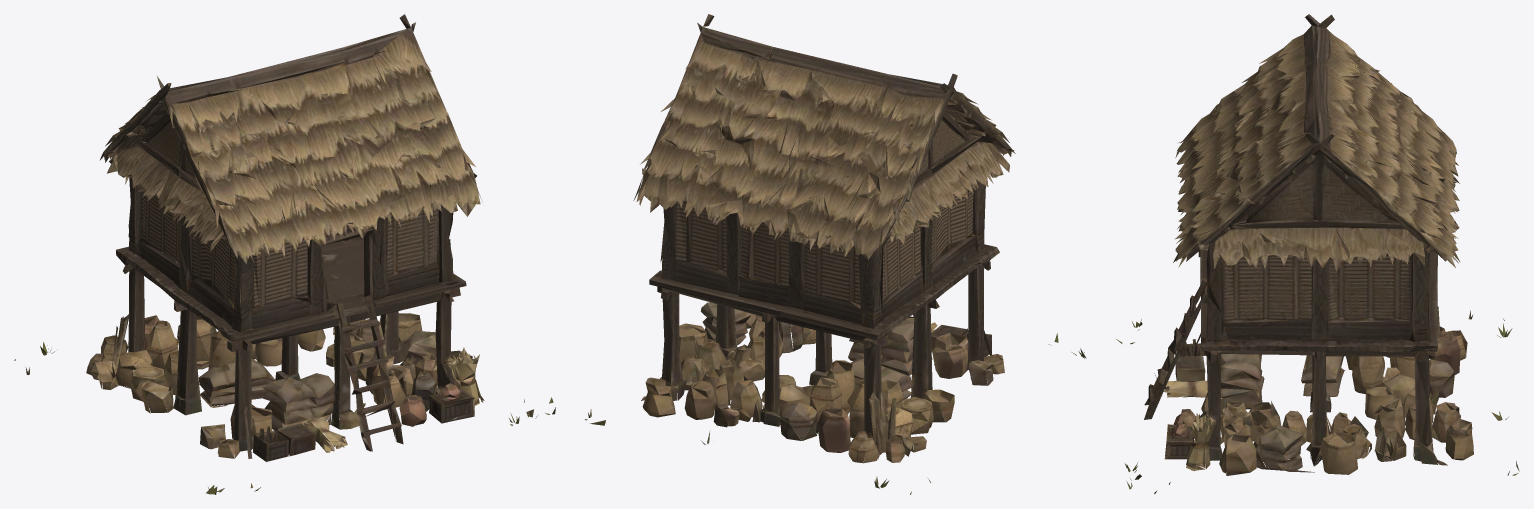
File: storehouse.glb
3 views of the same model, side by side, from view 1: azimuth 30°, elevation 25°; view 2: azimuth 150°, elevation 25°; view 3: azimuth 270°, elevation 25° (orthographic).
Parts seen in each view (by area): view 1: output_unwrapped; view 2: output_unwrapped; view 3: output_unwrapped.
Boxes of the visible parts, x1,y1,x2,y2 form: output_unwrapped: (14, 14, 555, 494); output_unwrapped: (585, 14, 1086, 494); output_unwrapped: (1116, 14, 1519, 494).
Bounding box in the file's own units: 10 × 8.81 × 9.66.
Materials: 1 (1 with a texture image).
